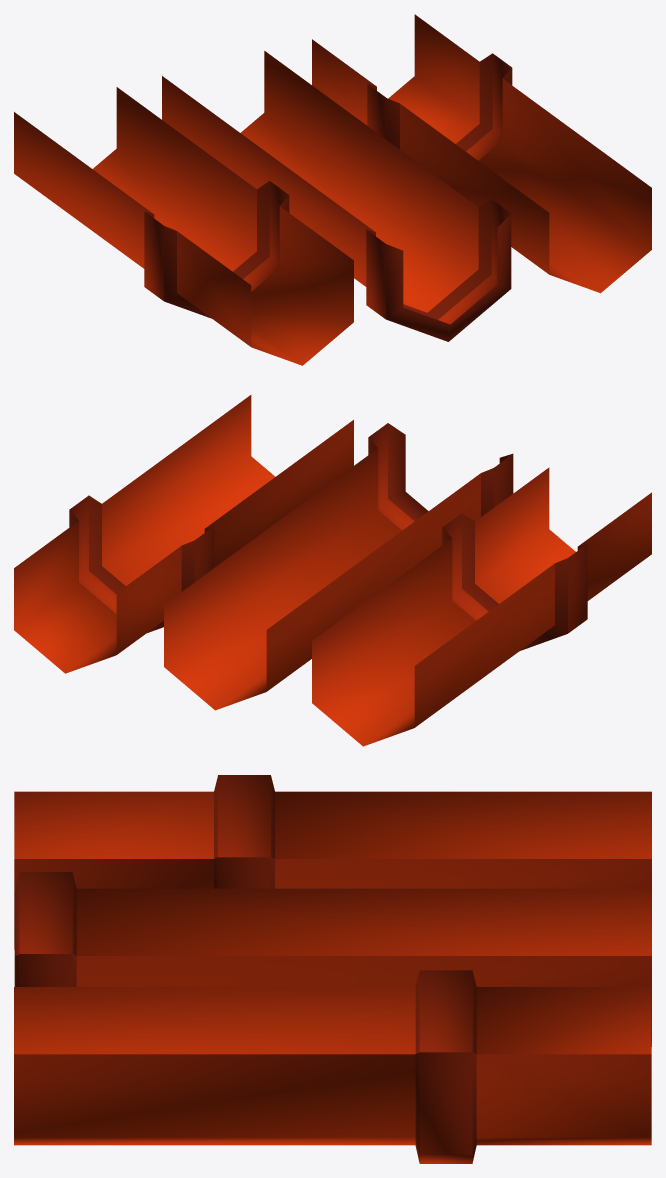
File: TuboGrossoOtimizado.fbx
3 renders of one model, top to bottom at view 1: azimuth 30°, elevation 25°; view 2: azimuth 150°, elevation 25°; view 3: azimuth 270°, elevation 25°, orthographic. The views are drawn at different scales.
Visible parts, largest first — view 1: TuboGrossoOtimizado; view 2: TuboGrossoOtimizado; view 3: TuboGrossoOtimizado.
Part boxes in pixels (x1,y1,x2,y2): TuboGrossoOtimizado: [14, 14, 651, 365]; TuboGrossoOtimizado: [14, 395, 651, 746]; TuboGrossoOtimizado: [14, 775, 651, 1163].
Size of the model in its own units: 125 by 32 by 121.
